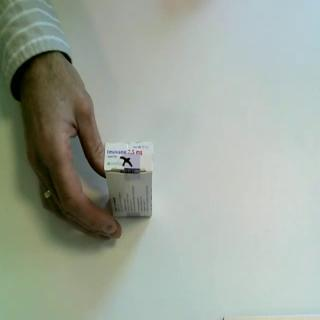imovane7-5mg: (104, 140, 156, 220)
